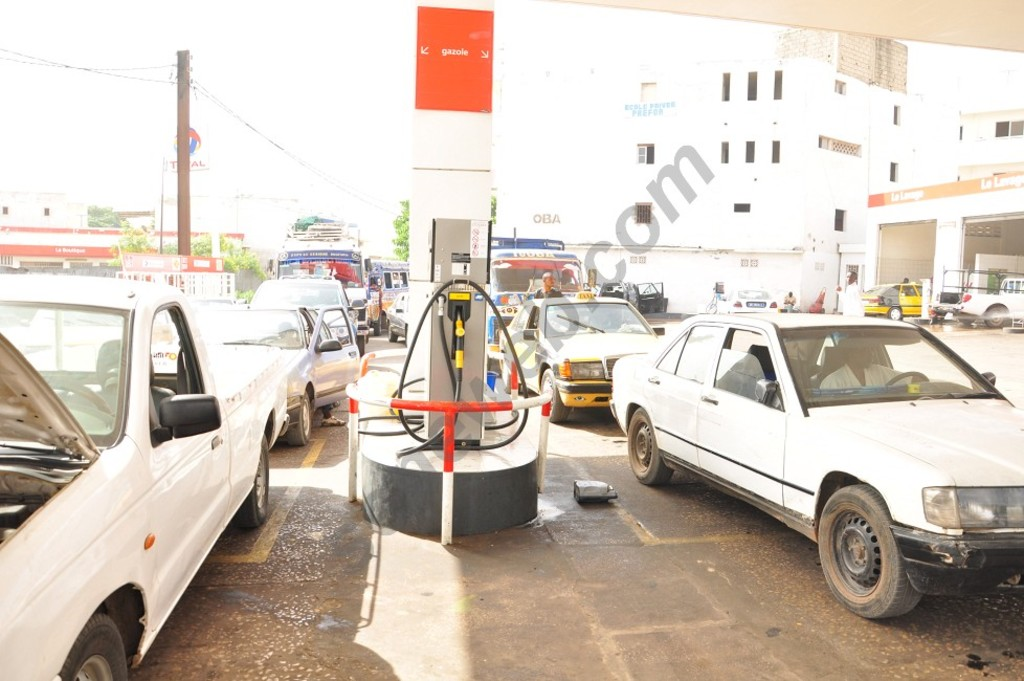car: (600, 279, 1024, 624), (1, 256, 296, 681), (499, 270, 672, 426), (205, 294, 369, 446), (956, 255, 1024, 339), (852, 272, 936, 329)
